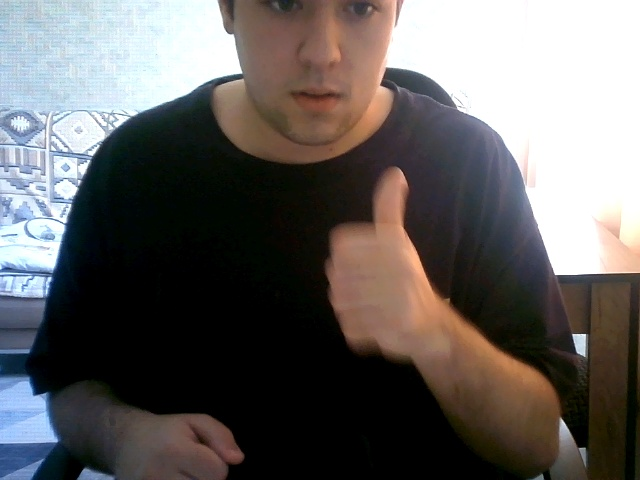good: (320, 165, 454, 389)
